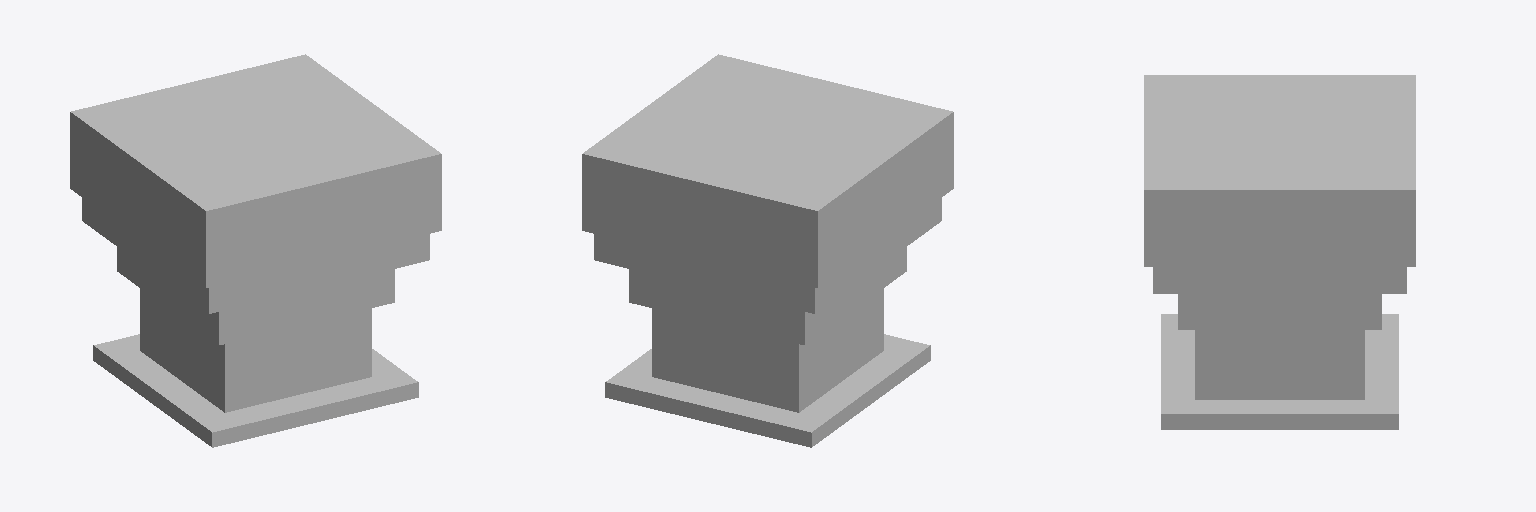
Rendered from pedistalobj.obj.
The picture shows the model from 3 angles: view 1: azimuth 30°, elevation 25°; view 2: azimuth 150°, elevation 25°; view 3: azimuth 270°, elevation 25°; orthographic projection.
Visible parts, largest first — view 1: cube; view 2: cube; view 3: cube.
Boxes of the visible parts, box(x1,y1,x2,y2) form: cube: box(70, 54, 441, 447); cube: box(582, 54, 953, 447); cube: box(1144, 75, 1415, 429).
Bounding box in the file's own units: 1 × 1 × 1.